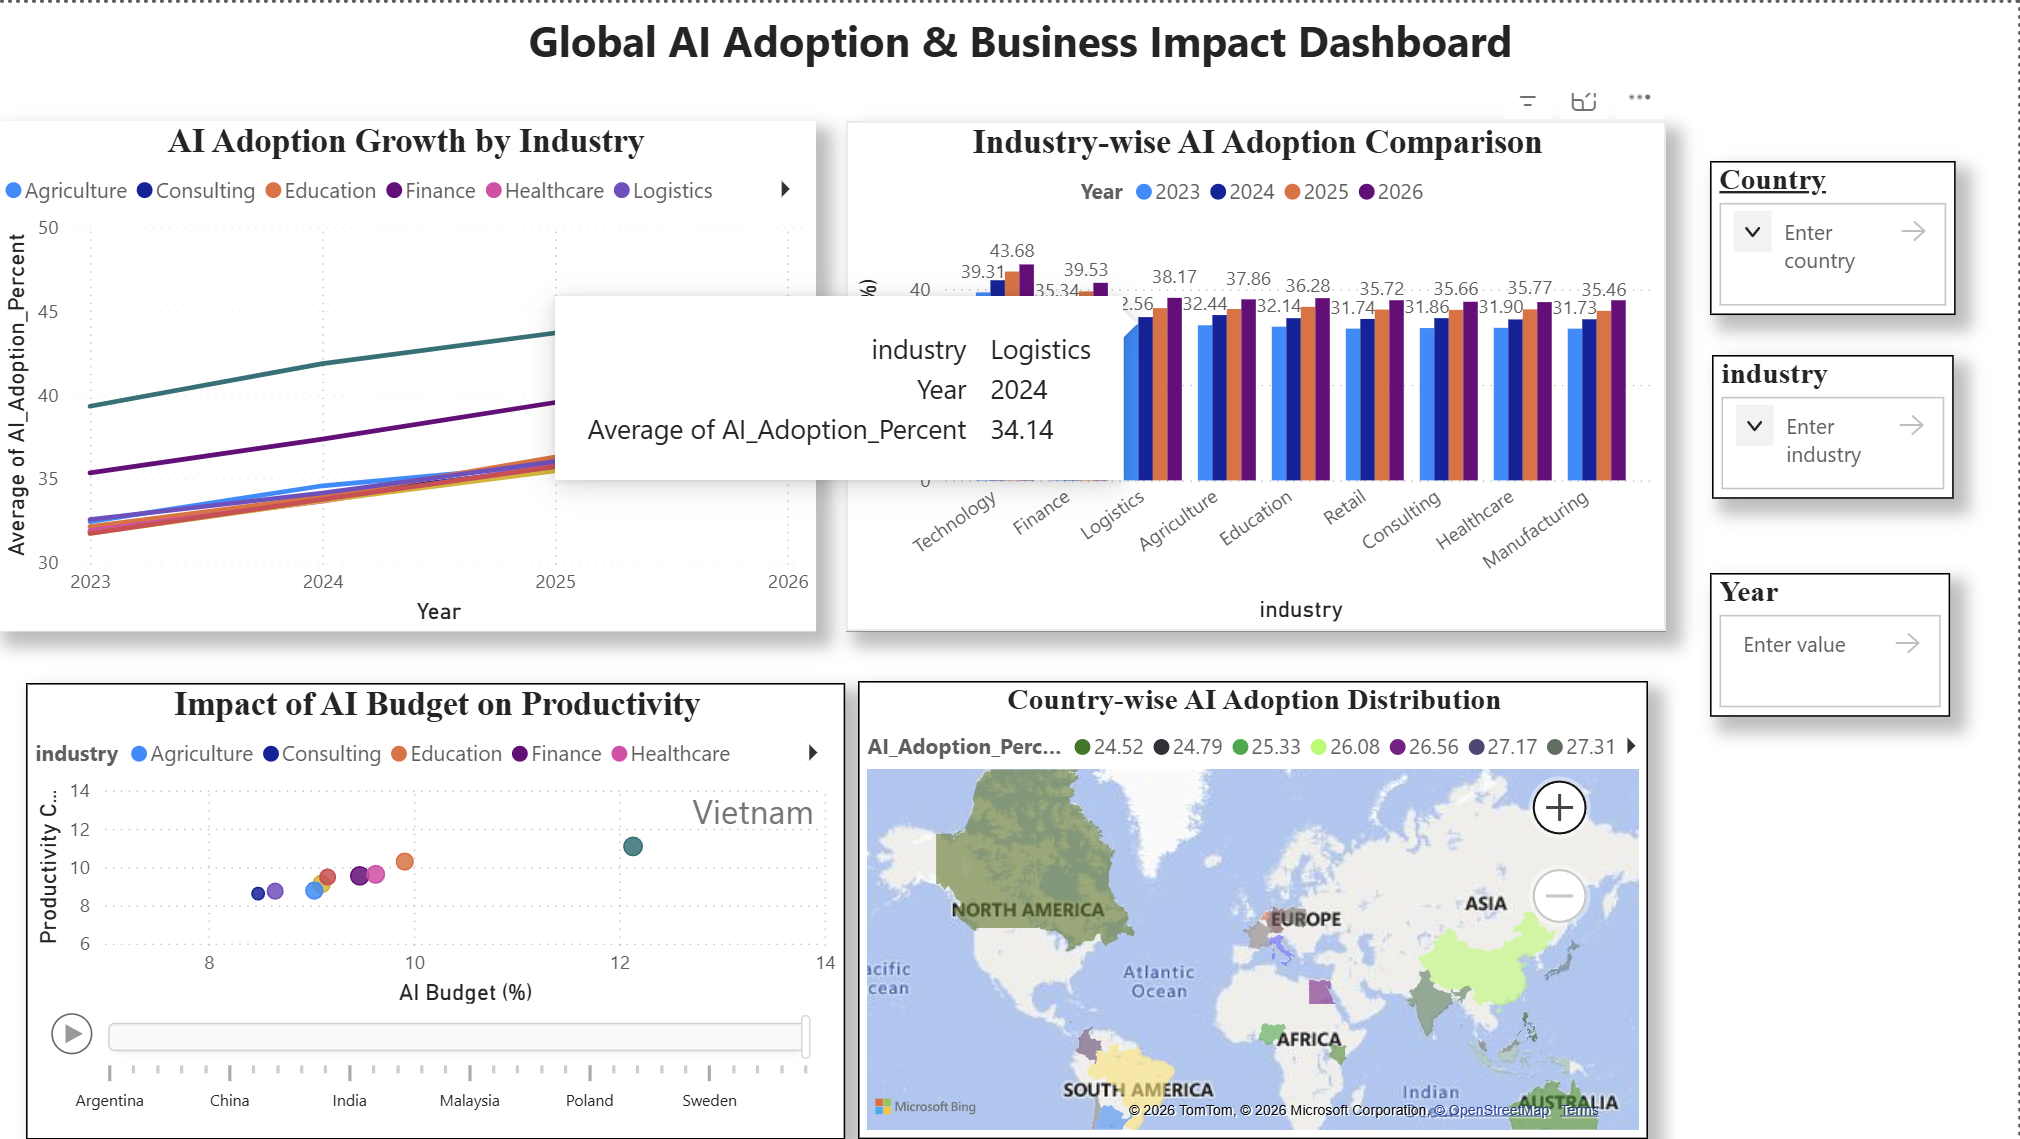

What the dashboard file says about the page in this screenshot:
{"tool":"powerbi","page":{"name":"Dashboard","canvas":[1280,720],"ordinal":0},"visuals":[{"type":"lineChart","title":"AI Adoption Growth by Industry","fields":{"Category":["Sheet1.Year"],"Y":["Avg(Sheet1.AI_Adoption_Percent)"],"Series":["Sheet1.industry"]},"box":[0,74.7,519,322.8],"z":0},{"type":"clusteredColumnChart","title":"Industry-wise AI Adoption Comparison","fields":{"Category":["Sheet1.industry"],"Series":["Sheet1.Year"],"Y":["Avg(Sheet1.AI_Adoption_Percent)"]},"box":[538,74.7,519,322.8],"z":1000},{"type":"textbox","box":[0,430,518,290],"z":2000},{"type":"scatterChart","title":"Impact of AI Budget on Productivity","fields":{"X":["Avg(Sheet1.Avg_AI_Budget_Percent)"],"Y":["Avg(Sheet1.Productivity_Change)"],"Series":["Sheet1.industry"],"Size":["Sum(Sheet1.Companies_Using_AI)"],"Play":["Sheet1.country"]},"box":[18.5,430.8,518.5,289.2],"z":3000},{"type":"filledMap","title":"Country-wise AI Adoption Distribution","fields":{"Category":["Sheet1.country"],"Series":["Sheet1.AI_Adoption_Percent"]},"box":[545.6,429.1,500,289.9],"z":4000},{"type":"textSlicer","title":"Country","fields":{"Values":["Sheet1.country"]},"box":[1084.8,100,155.7,97.5],"z":5000},{"type":"textSlicer","fields":{"Values":["Sheet1.industry"]},"box":[1086.1,222.8,153.2,91.1],"z":6000},{"type":"textSlicer","title":"Year","box":[1084.8,360.8,151.9,91.1],"z":7000},{"type":"textbox","box":[100,0,1096.9,56.9],"z":8001}]}

Visuals, with their boxes in screenshot pixels (x1, y1, x2, y2), scaled from the page's 1280x720 canvas onto the 2020x1139 screenshot:
"AI Adoption Growth by Industry" lineChart: select_region(0, 118, 819, 629)
"Industry-wise AI Adoption Comparison" clusteredColumnChart: select_region(849, 118, 1668, 629)
textbox: select_region(0, 680, 817, 1138)
"Impact of AI Budget on Productivity" scatterChart: select_region(29, 682, 847, 1138)
"Country-wise AI Adoption Distribution" filledMap: select_region(861, 679, 1650, 1137)
"Country" textSlicer: select_region(1712, 158, 1958, 312)
textSlicer - Sheet1.industry: select_region(1714, 352, 1956, 497)
"Year" textSlicer: select_region(1712, 571, 1952, 715)
textbox: select_region(158, 0, 1889, 90)
